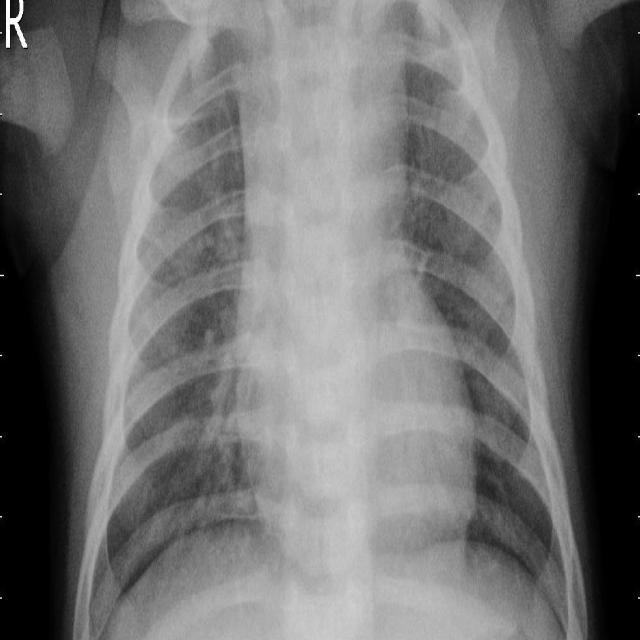no-pneumonia: (91, 32, 259, 636), (405, 63, 569, 618)
